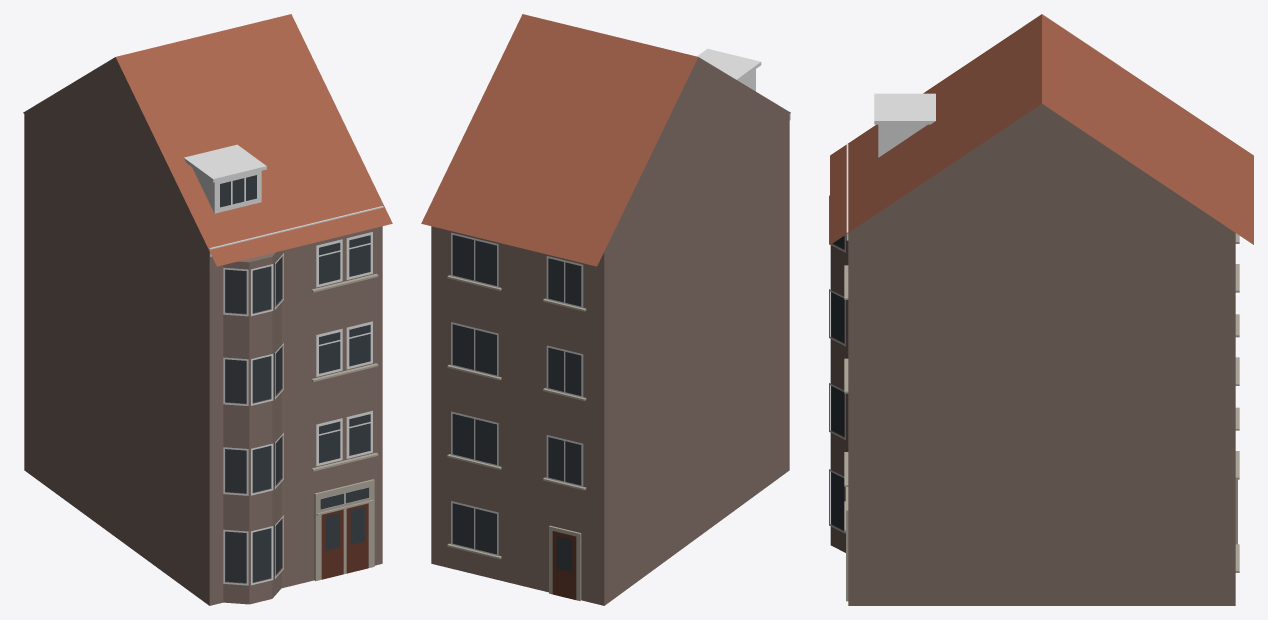
Rendered from we-pk-bay__brown__4__gable__long__solid__f0d0.glb.
The picture shows the model from 3 angles, left to right: view 1: azimuth 30°, elevation 25°; view 2: azimuth 150°, elevation 25°; view 3: azimuth 270°, elevation 25°; orthographic projection. The views are drawn at different scales.
Parts seen in each view (by area): view 1: we-pk-bay__brown__4__gable__long__solid__f0d0; view 2: we-pk-bay__brown__4__gable__long__solid__f0d0; view 3: we-pk-bay__brown__4__gable__long__solid__f0d0.
Part boxes in pixels (x1=…): we-pk-bay__brown__4__gable__long__solid__f0d0: x1=23, y1=14, x2=392, y2=605; we-pk-bay__brown__4__gable__long__solid__f0d0: x1=421, y1=14, x2=790, y2=605; we-pk-bay__brown__4__gable__long__solid__f0d0: x1=829, y1=14, x2=1253, y2=605.
Bounding box in the file's own units: 6.36 × 16.64 × 12.77.
